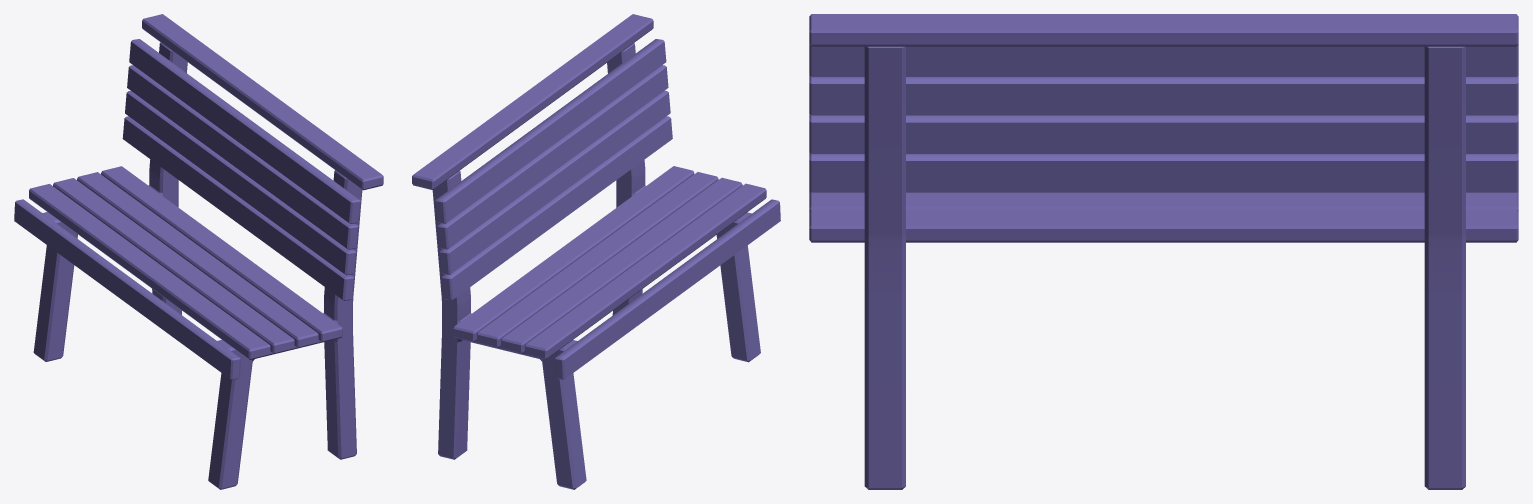
File: bench_03.fbx
3 renders of one model, left to right at view 1: azimuth 30°, elevation 25°; view 2: azimuth 150°, elevation 25°; view 3: azimuth 270°, elevation 25°, orthographic. The views are drawn at different scales.
Visible parts, largest first — view 1: Cube.010; view 2: Cube.010; view 3: Cube.010.
Part boxes in pixels (x1=…): Cube.010: x1=14, y1=14, x2=383, y2=489; Cube.010: x1=412, y1=14, x2=780, y2=489; Cube.010: x1=809, y1=14, x2=1518, y2=489.
Bounding box in the file's own units: 209 × 387 × 530.
